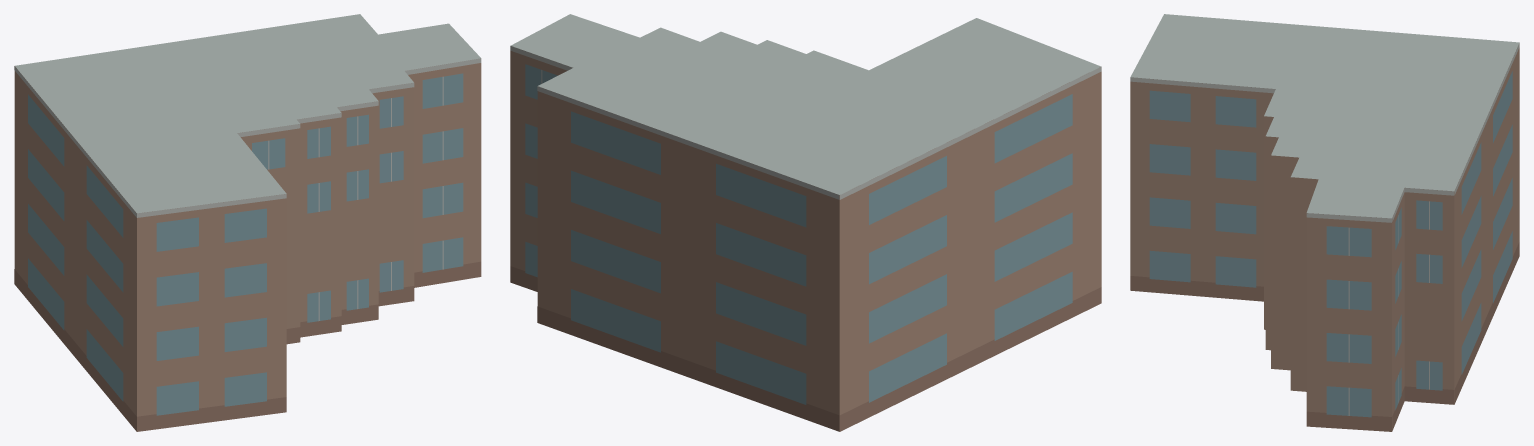
File: survey-upis-32783032.glb
3 renders of one model, left to right at view 1: azimuth 30°, elevation 25°; view 2: azimuth 150°, elevation 25°; view 3: azimuth 270°, elevation 25°, orthographic. The views are drawn at different scales.
Visible parts, largest first — view 1: survey-upis-32783032.tmp; view 2: survey-upis-32783032.tmp; view 3: survey-upis-32783032.tmp.
Boxes of the visible parts, x1,y1,x2,y2 form: survey-upis-32783032.tmp: (14,14,481,431); survey-upis-32783032.tmp: (510,14,1101,431); survey-upis-32783032.tmp: (1130,14,1519,431).
Bounding box in the file's own units: 24.24 × 11.8 × 19.51.
